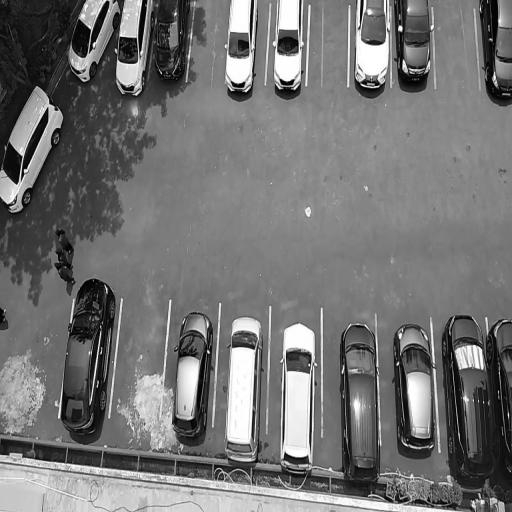Car: (438, 310, 495, 481), (58, 273, 117, 435), (0, 78, 64, 224), (336, 312, 383, 490), (388, 312, 439, 462), (276, 315, 321, 475), (224, 313, 268, 464), (170, 309, 215, 442), (392, 0, 435, 102), (66, 2, 117, 87), (489, 312, 512, 492), (270, 0, 309, 102), (113, 0, 152, 100), (351, 0, 391, 93), (223, 0, 258, 98), (152, 0, 189, 91), (480, 0, 512, 105)
Space Available: (123, 286, 160, 431), (435, 0, 474, 92), (311, 0, 346, 94), (194, 0, 221, 91)
